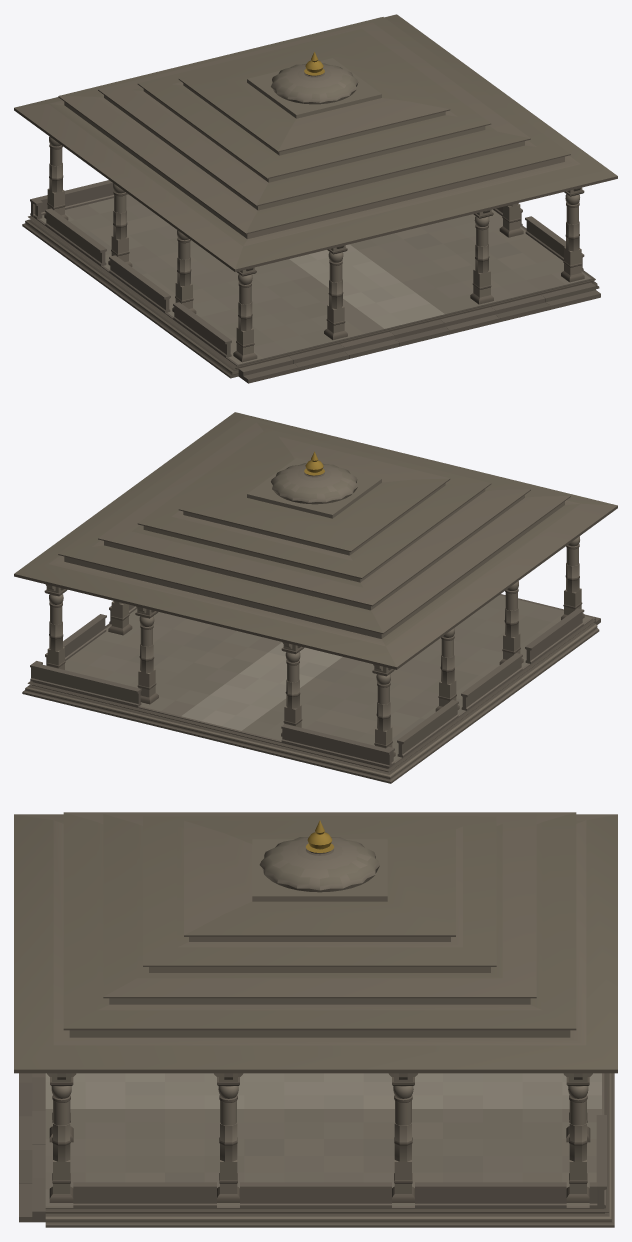
Rendered from mandapa.glb.
3 views of the same model, one above another, from view 1: azimuth 30°, elevation 25°; view 2: azimuth 150°, elevation 25°; view 3: azimuth 270°, elevation 25° (orthographic). The views are drawn at different scales.
Parts seen in each view (by area): view 1: mandapa; view 2: mandapa; view 3: mandapa.
Boxes of the visible parts, box(x1,y1,x2,y2) form: mandapa: box(14, 14, 617, 383); mandapa: box(14, 412, 617, 783); mandapa: box(14, 812, 617, 1227).
Size of the model in its own units: 15.2 by 7.91 by 15.2.
